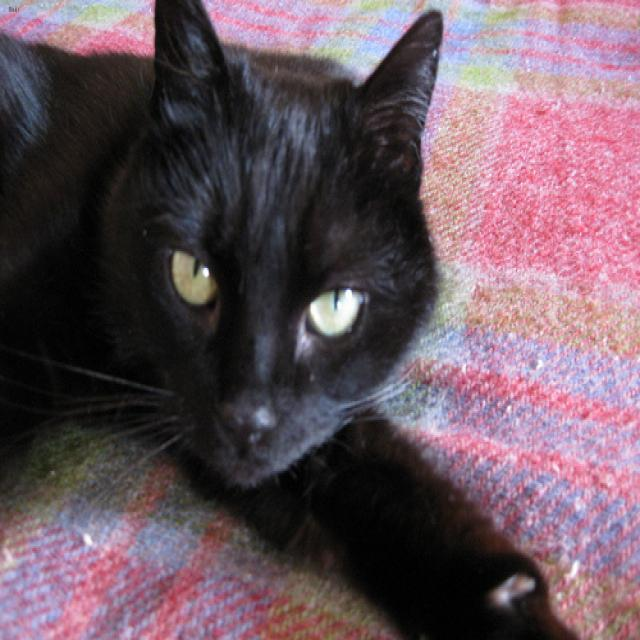Bombay: (107, 0, 461, 505)
